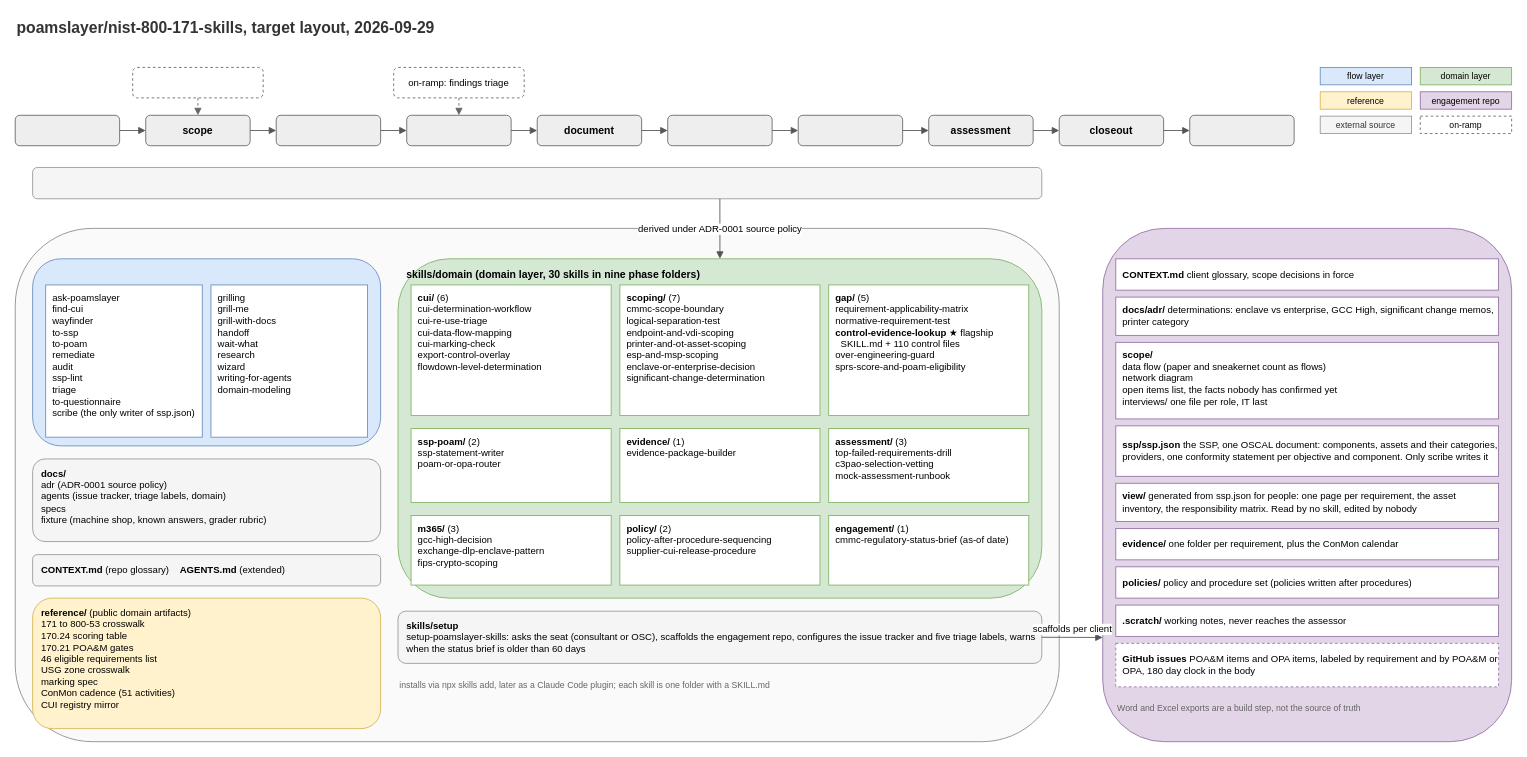
The diagram is 1527 pixels wide and 757 high, and some of its shapes have lost their labels. Here are the shapes that lost their labels. From the top down, the box of each, then its label:
(132, 67, 263, 98): on-ramp: significant change
(14, 114, 120, 146): find-cui
(275, 114, 381, 146): gap
(406, 114, 511, 146): remediate
(667, 114, 772, 146): evidence
(797, 114, 903, 146): mock
(1189, 114, 1294, 146): ConMon
(32, 167, 1042, 199): ~/cmmc-vault (private, read only, 186 pages)
(32, 258, 381, 446): skills/flows (flow layer, 20 skills)
(14, 228, 1059, 742): poamslayer/nist-800-171-skills (skills repo)
(1102, 228, 1512, 742): engagement repo (one per client, created by setup)
